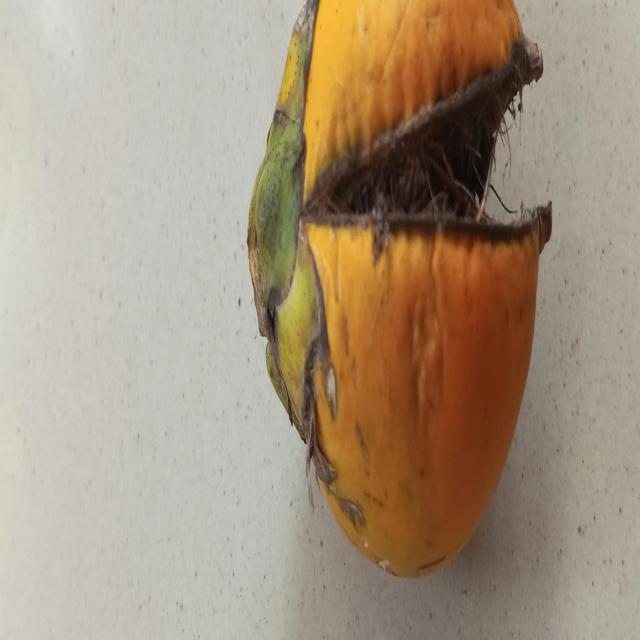damaged: (253, 0, 553, 581)
